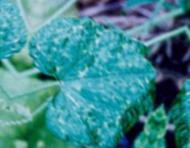Tomato leaf mosaic virus: (12, 7, 169, 148)
